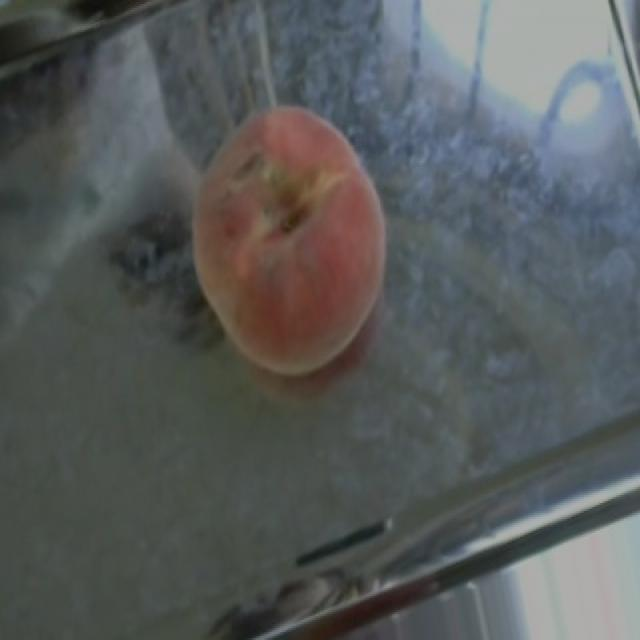Fruit: (150, 75, 430, 408)
